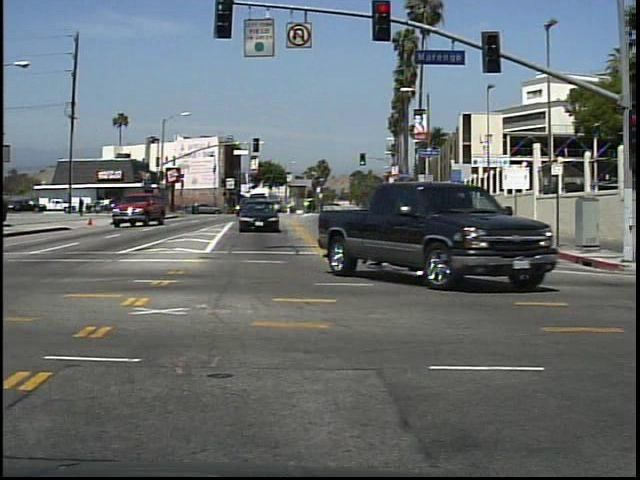person: (77, 194, 90, 219)
